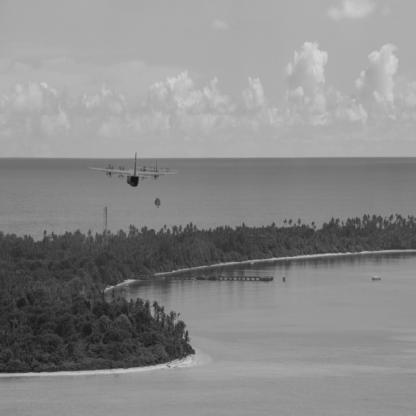C130: (89, 152, 179, 188), (137, 160, 180, 178)
